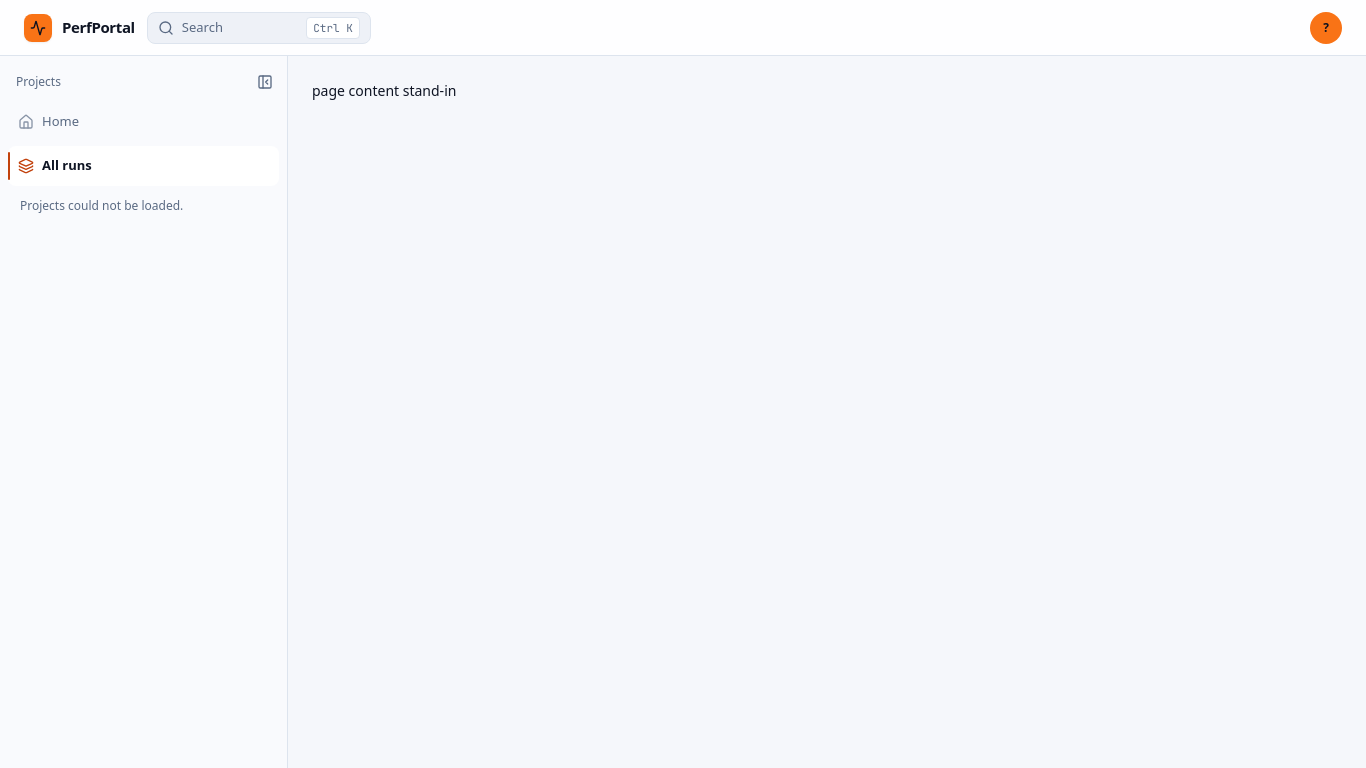
AppShell › renders the rail and exactly one Sign out control
The width and height of the screenshot is (1366, 768).
Expected: the navigation bar "Projects" is shown, [8, 112, 279, 214]
Step 1. Click the button with test id "account-menu-trigger" → coordinates (1326, 28), box [1310, 12, 1342, 44]
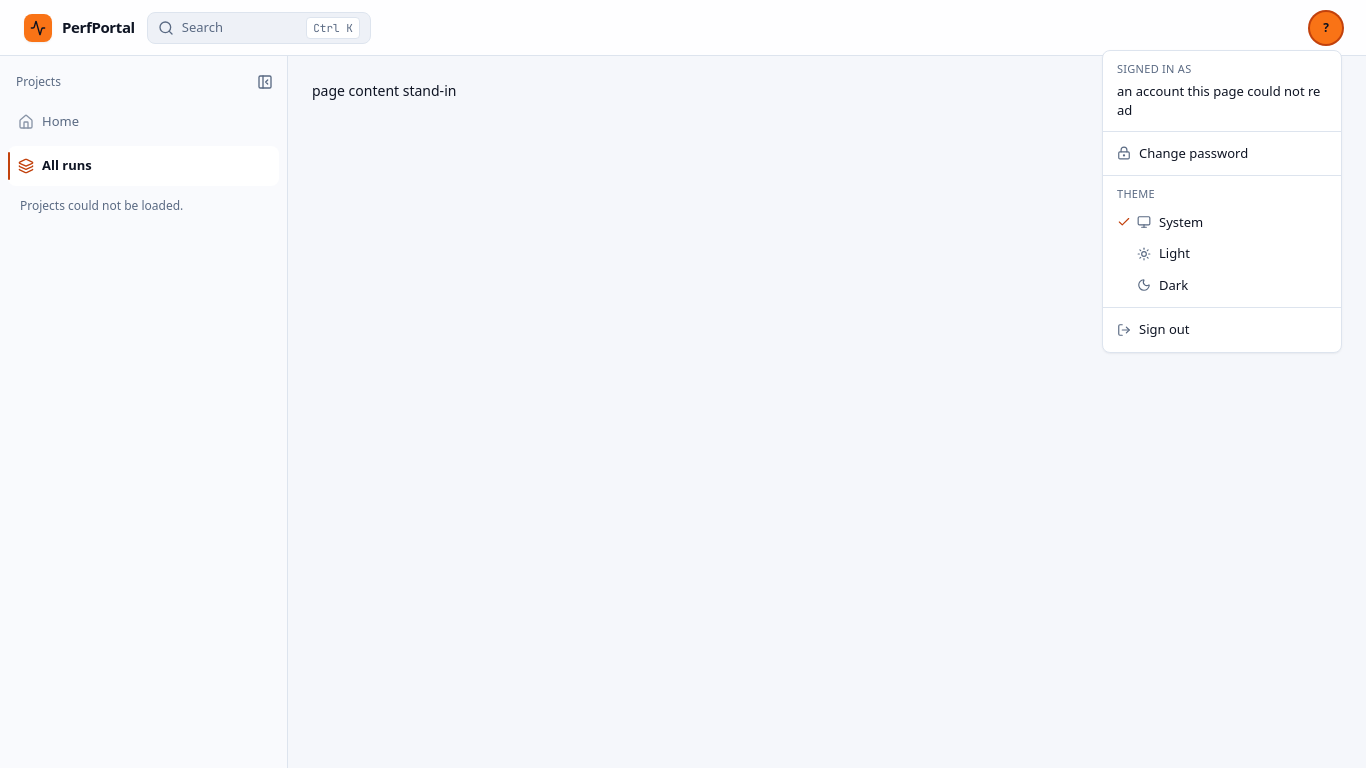
Expected: the number of menu items "Sign out" is 1, [1117, 320, 1190, 338]
